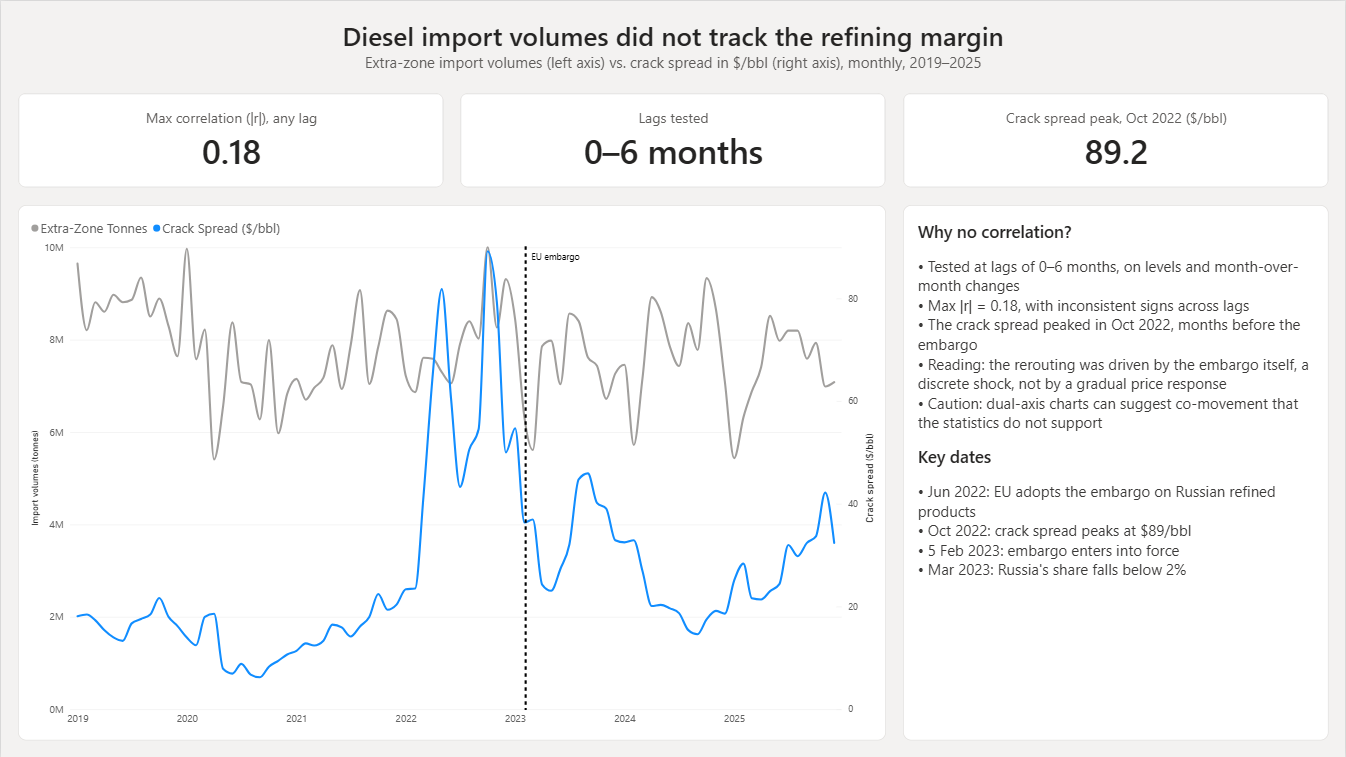

What the dashboard file says about the page in this screenshot:
{"tool":"powerbi","page":{"name":"Price vs Flow","canvas":[1920,1080],"ordinal":1},"visuals":[{"type":"lineChart","title":"Extra-zone volumes vs. crack spread","fields":{"Category":["date_dim.Date"],"Y":["Sum(price_flow_monthly.extra_zone_tonnes)"],"Y2":["Sum(price_flow_monthly.crack_spread_usd_bbl)"]},"box":[24,291,1240,765],"z":0},{"type":"textbox","box":[24,24,1872,84],"z":1001},{"type":"cardVisual","fields":{"Data":["price_flow_monthly.Max Correlation"]},"box":[24,132,608,135],"z":1002},{"type":"cardVisual","fields":{"Data":["price_flow_monthly.Lags Tested"]},"box":[656,132,608,135],"z":1003},{"type":"cardVisual","fields":{"Data":["price_flow_monthly.Crack Spread Peak"]},"box":[1288,132,608,135],"z":1004},{"type":"textbox","box":[1288,291,608,765],"z":1005}]}

Visuals, with their boxes in screenshot pixels (x1, y1, x2, y2), scaled from the page's 1920x1080 canvas onto the 1346x757 screenshot:
"Extra-zone volumes vs. crack spread" lineChart: (left=17, top=204, right=886, bottom=740)
textbox: (left=17, top=17, right=1329, bottom=76)
cardVisual - price_flow_monthly.Max Correlation: (left=17, top=93, right=443, bottom=187)
cardVisual - price_flow_monthly.Lags Tested: (left=460, top=93, right=886, bottom=187)
cardVisual - price_flow_monthly.Crack Spread Peak: (left=903, top=93, right=1329, bottom=187)
textbox: (left=903, top=204, right=1329, bottom=740)
